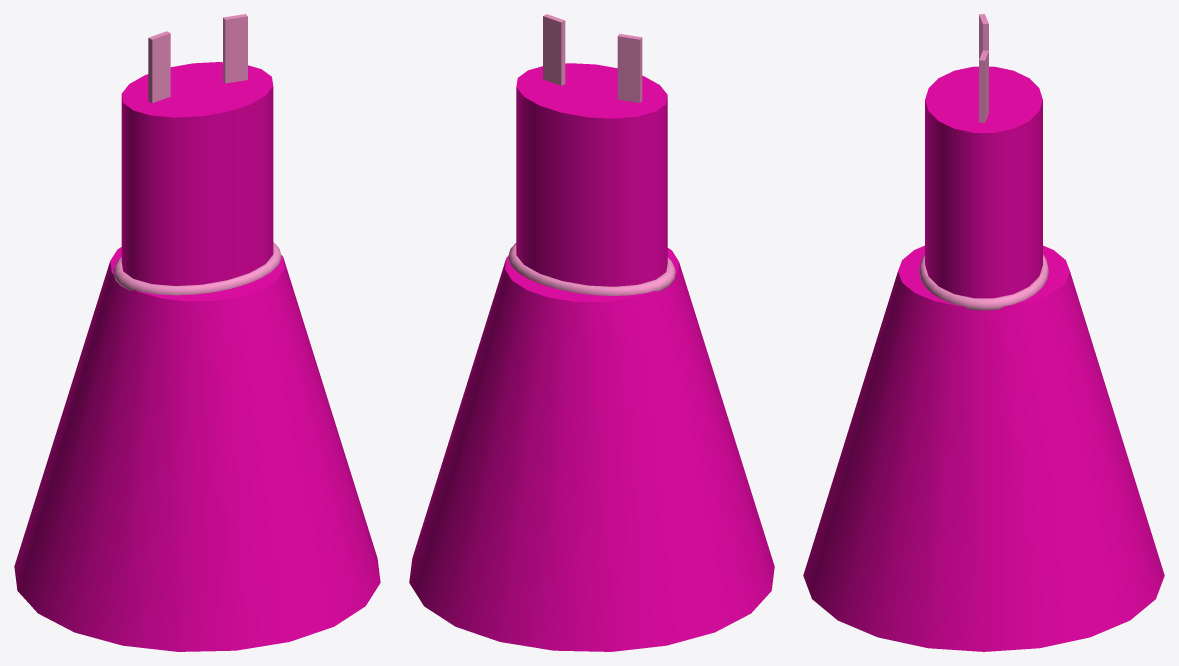
The model's file is VM-DAM-EXT179.glb.
3 renders of one model, left to right at view 1: azimuth 30°, elevation 25°; view 2: azimuth 150°, elevation 25°; view 3: azimuth 270°, elevation 25°, orthographic.
Parts seen in each view (by area): view 1: Corset con Falda Negra; view 2: Corset con Falda Negra; view 3: Corset con Falda Negra.
Part boxes in pixels (box(x1,y1,x2,y2)): Corset con Falda Negra: box(14, 14, 380, 651); Corset con Falda Negra: box(409, 14, 774, 651); Corset con Falda Negra: box(803, 14, 1164, 651).
Bounding box in the file's own units: 0.8736 × 1.44 × 0.8736.
